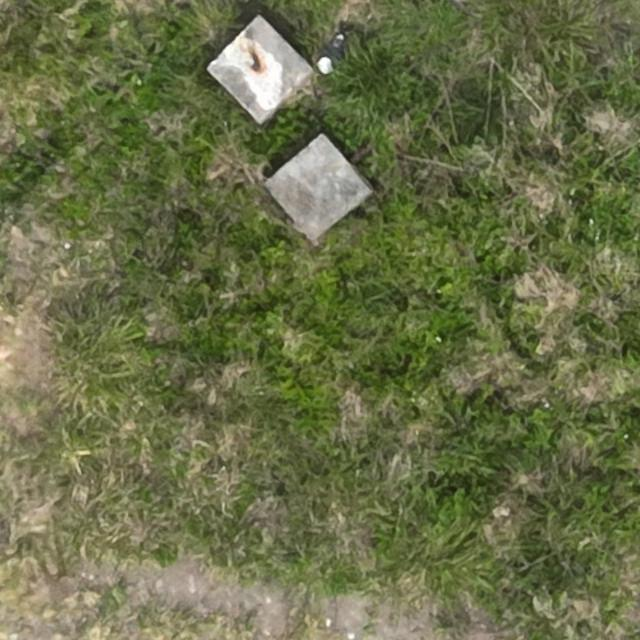umineko: (317, 34, 342, 76)
